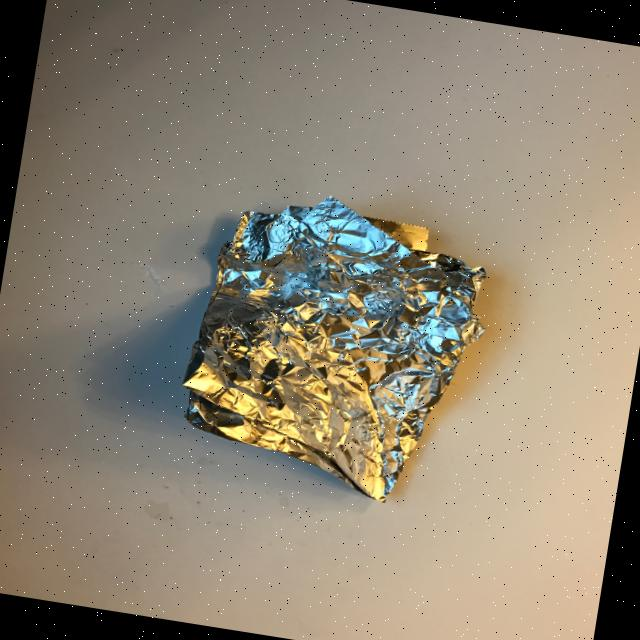metal: (168, 176, 502, 514)
